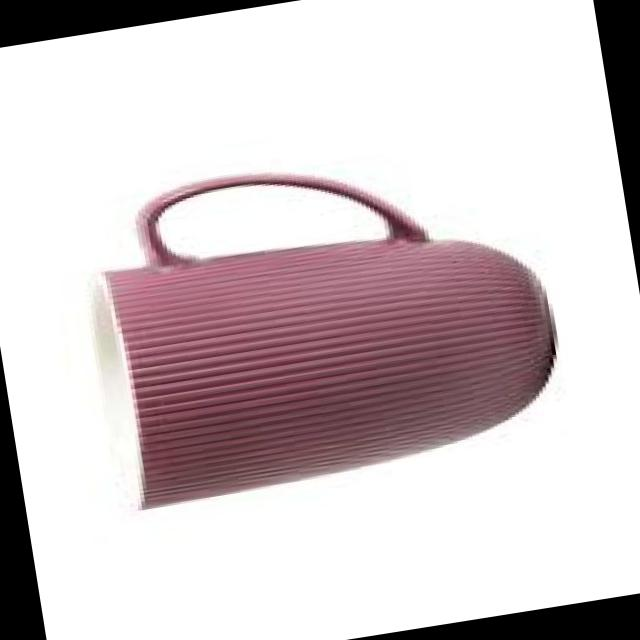Coffee Mug: (69, 128, 576, 512)
